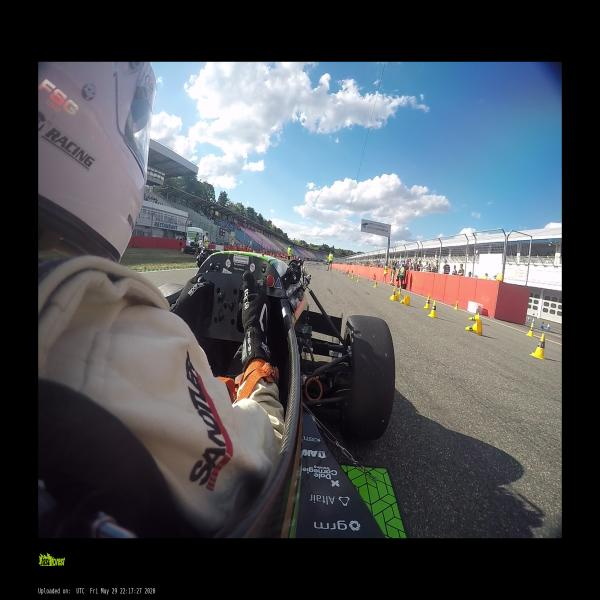blue_cone: (546, 322, 550, 330), (541, 321, 544, 329), (532, 318, 534, 323), (528, 316, 530, 321), (307, 263, 308, 266), (308, 264, 309, 266), (306, 264, 306, 266)
yellow_cone: (532, 334, 546, 360), (465, 319, 482, 335), (429, 300, 438, 318), (468, 312, 480, 321), (400, 295, 410, 305), (527, 323, 534, 337), (424, 294, 430, 309), (390, 292, 399, 300), (392, 288, 396, 300), (454, 301, 459, 310), (373, 280, 378, 287), (357, 275, 360, 282), (399, 286, 401, 295), (351, 273, 354, 278), (348, 272, 350, 277), (343, 269, 344, 274), (338, 268, 339, 272), (336, 268, 337, 271), (334, 267, 334, 270)
